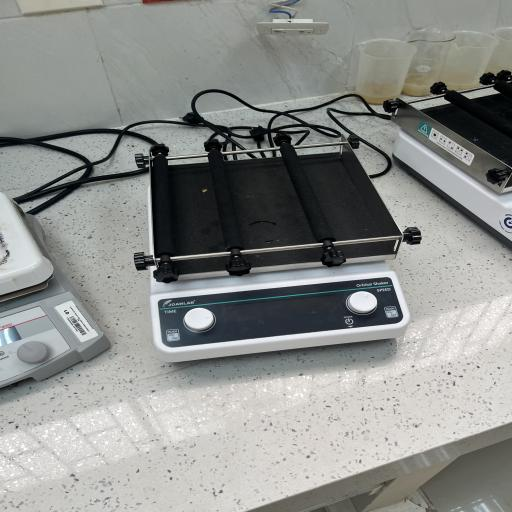Agitador_Orbital_DLAB: (118, 138, 434, 372)
